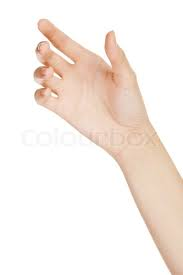hand: (19, 7, 161, 172)
